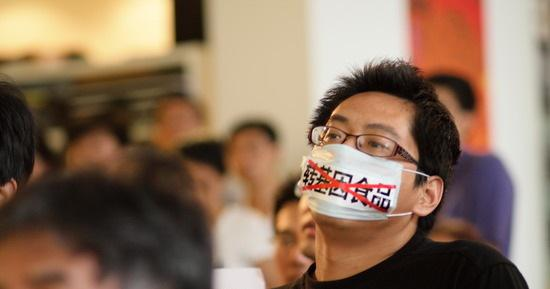OK: (300, 109, 415, 224)
